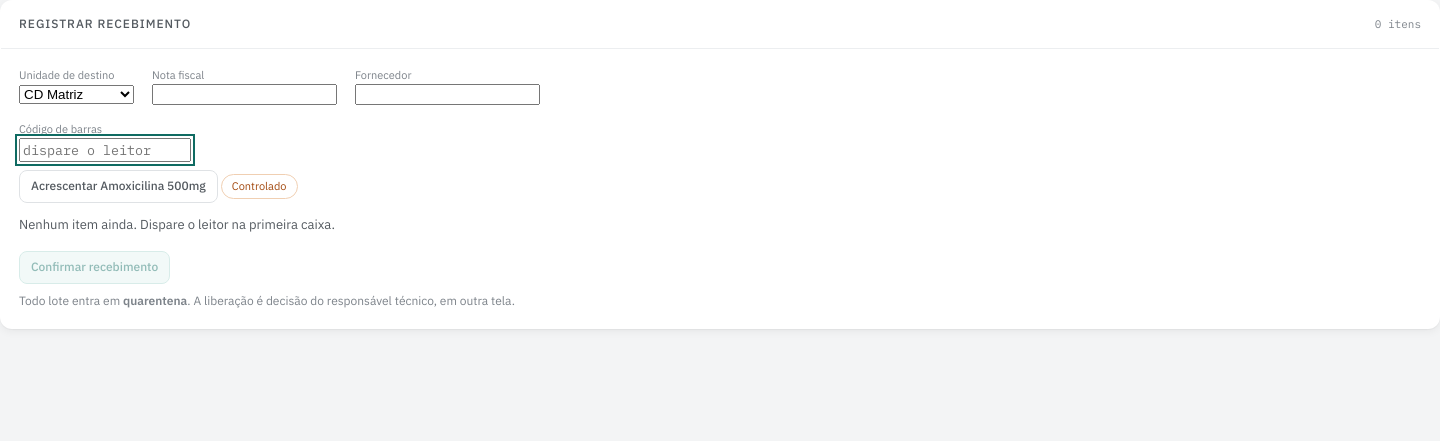
it: o que a classe do produto exige › controlado pede a segunda identificação — RN-R05
In the field named "Código de barras do produto": (105, 150) [19, 138, 191, 162], type "7891234000018"
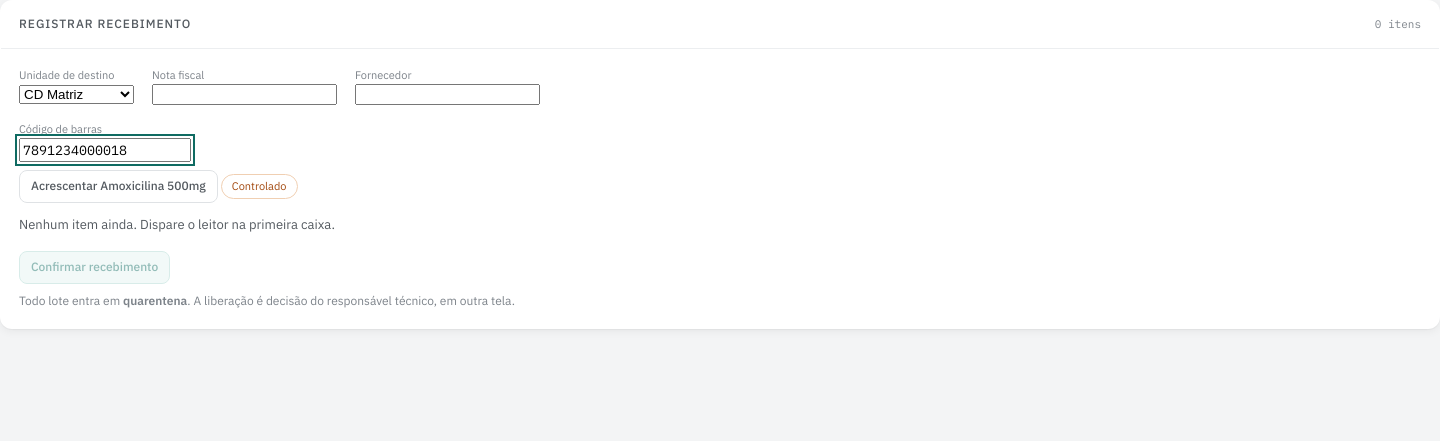
Press Enter in the field named "Código de barras do produto", box [19, 138, 191, 162]
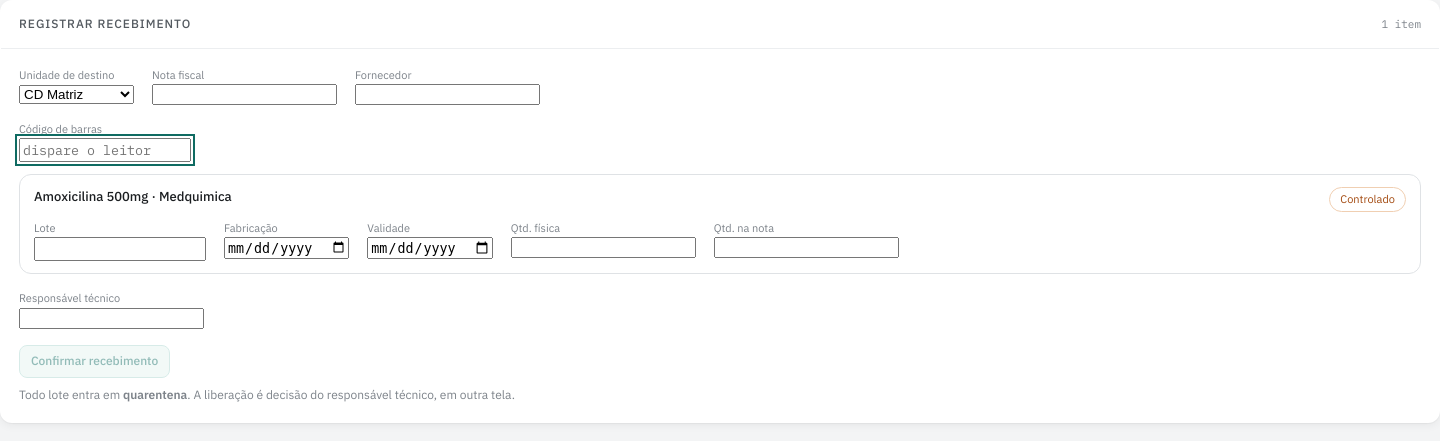
Expected: the field labelled "Responsável técnico" is shown, [19, 308, 204, 328]
